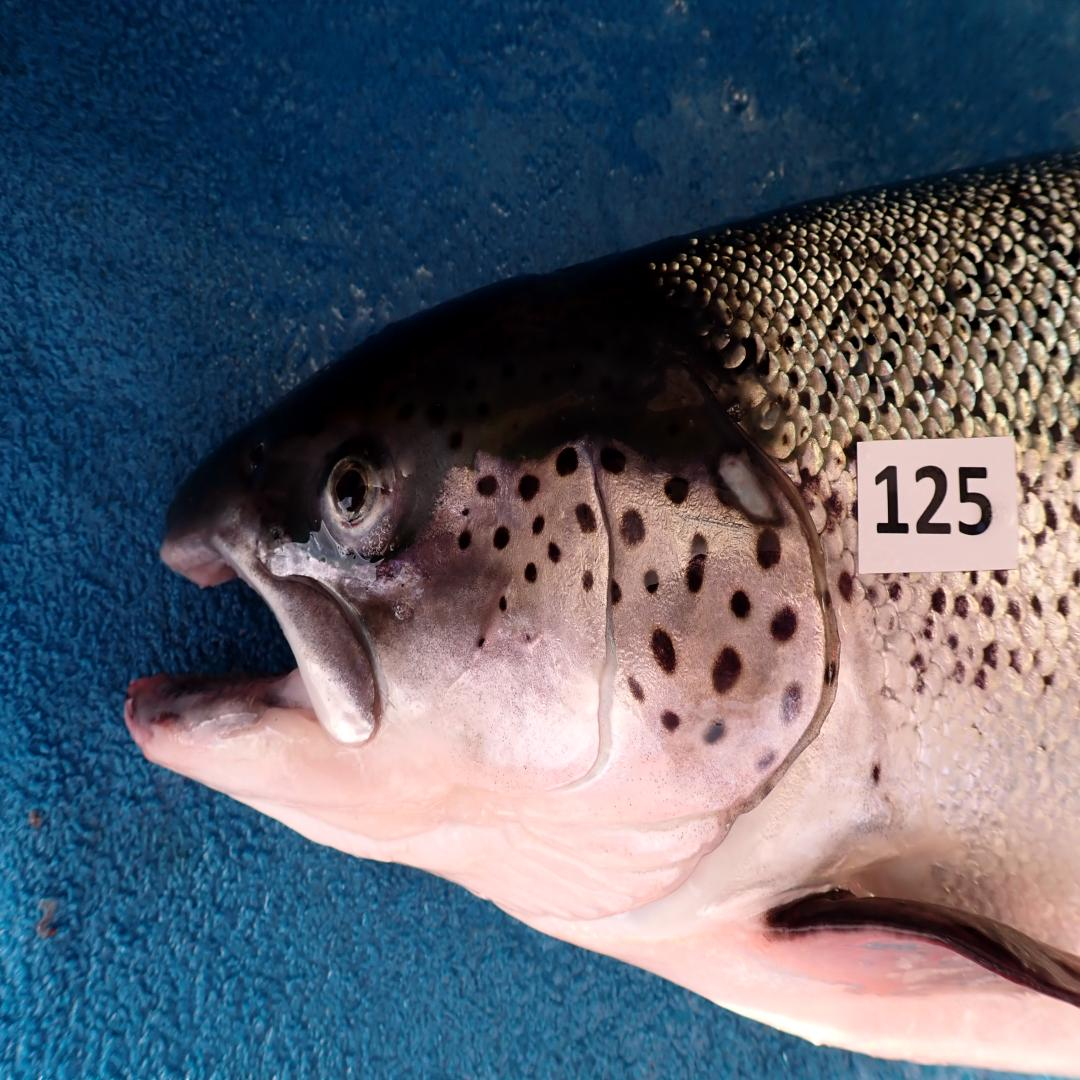roi: (375, 437, 831, 928)
